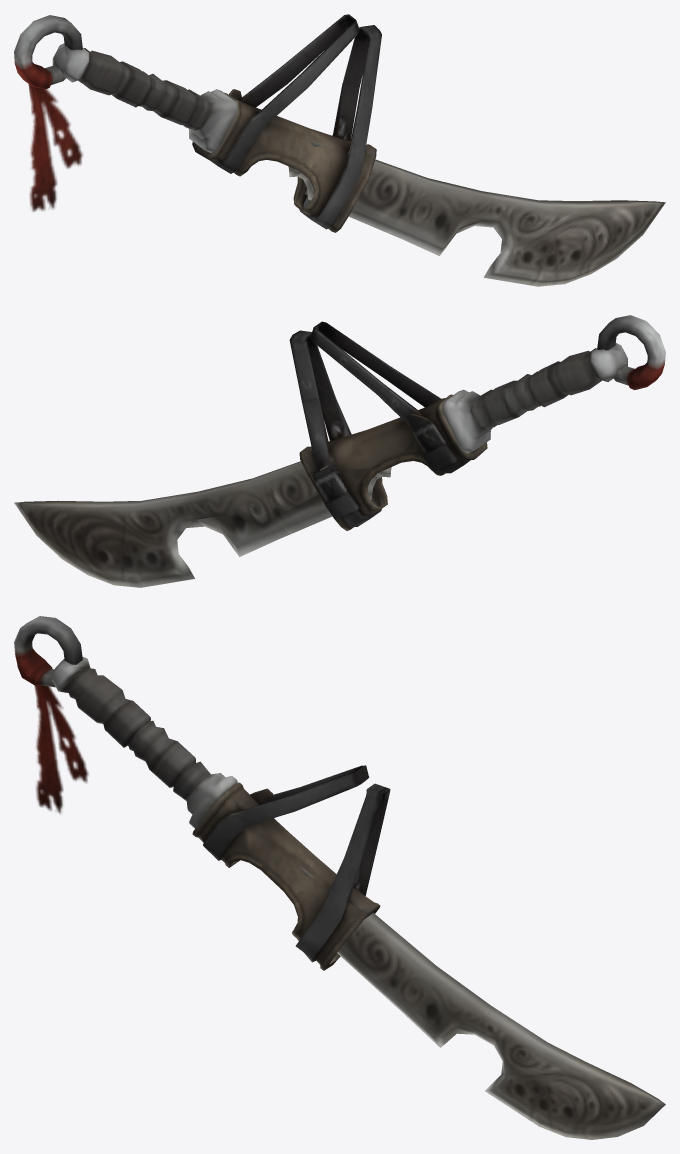
Rendered from VampireALusthLeftWeapon.gltf.
The picture shows the model from 3 angles, top to bottom: view 1: azimuth 30°, elevation 25°; view 2: azimuth 150°, elevation 25°; view 3: azimuth 330°, elevation 25°; orthographic projection.
Visible parts, largest first — view 1: Vampire.002; view 2: Vampire.002; view 3: Vampire.002.
Part boxes in pixels (box(x1,y1,x2,y2)): Vampire.002: box(14, 14, 665, 286); Vampire.002: box(14, 315, 665, 587); Vampire.002: box(14, 616, 665, 1139).
Size of the model in its own units: 0.9821 by 0.5677 by 0.0799.
Materials: 2 (2 with a texture image).
